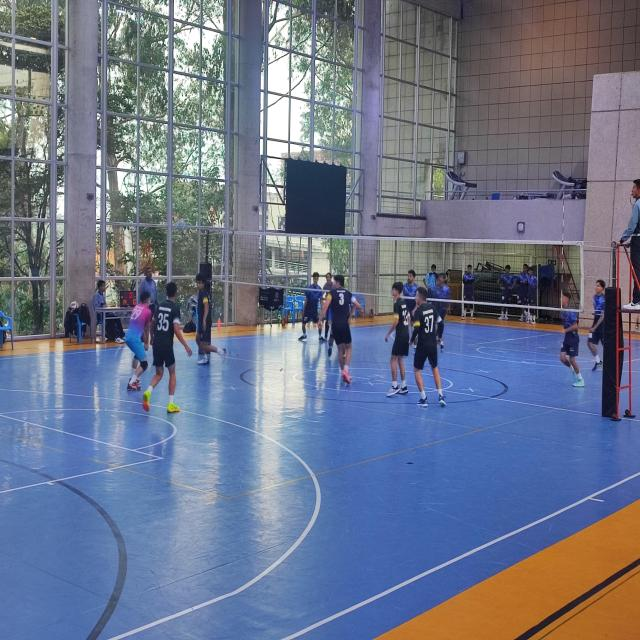volleyball: (70, 300, 79, 312)
